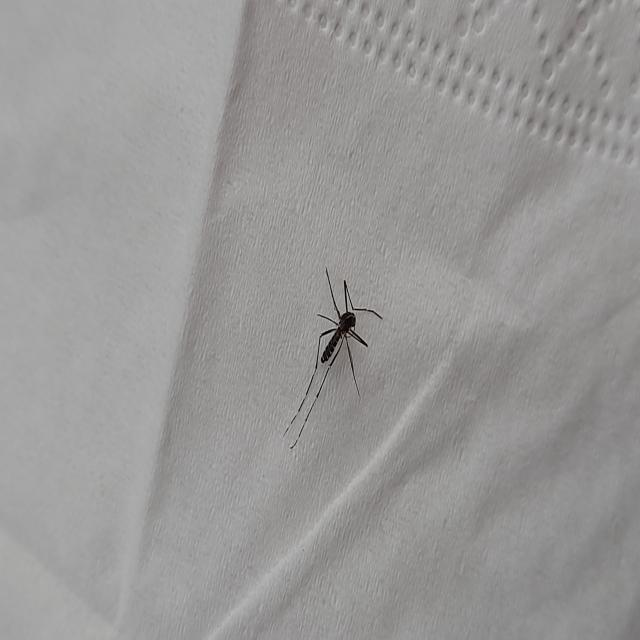albopictus: (283, 255, 386, 452)
